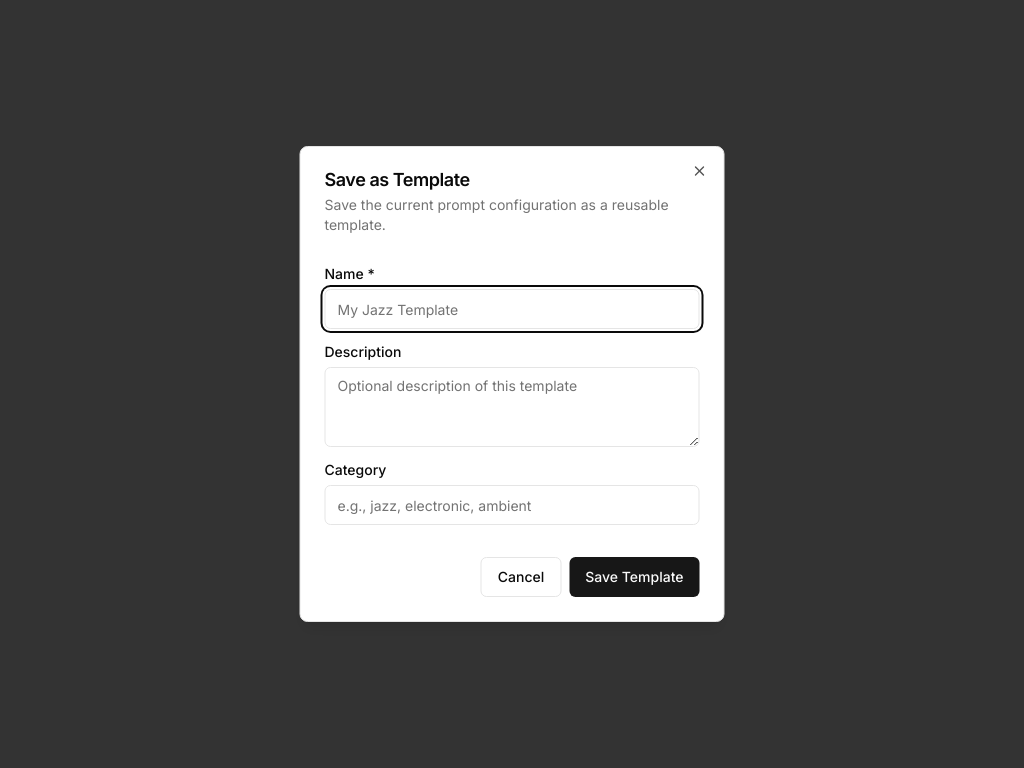
SaveTemplateDialog › shows error when prompt text is empty
In the field labelled "Name *": (512, 309) [324,289,700,329], type "My Template"
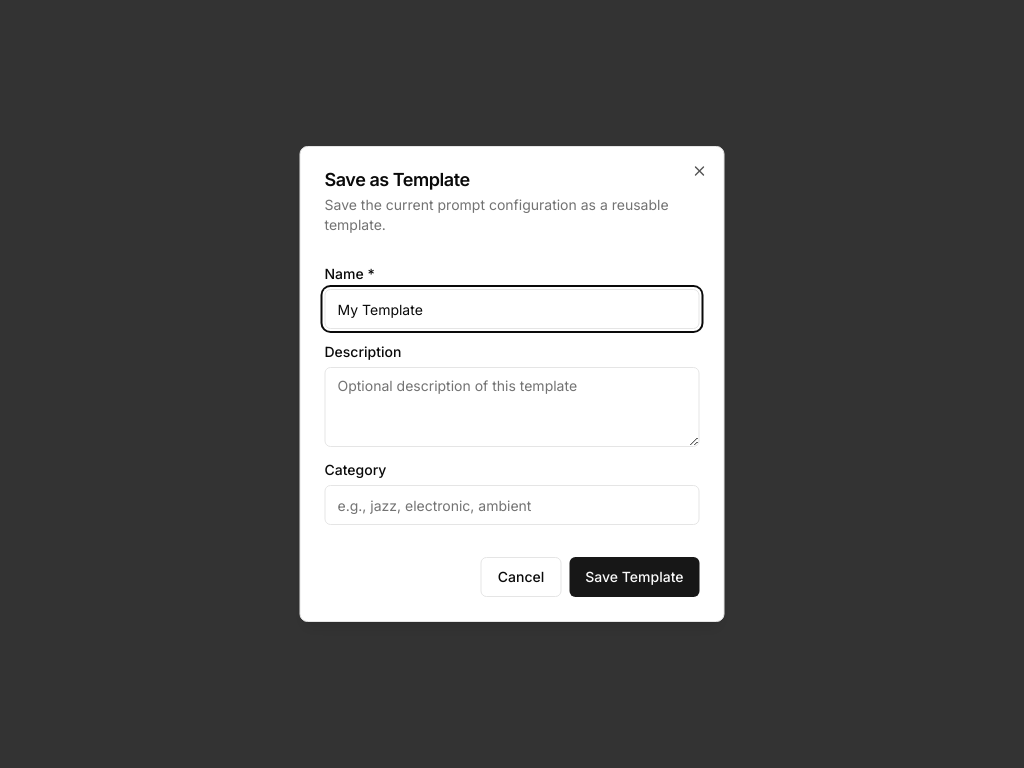
Click the button "Save Template": (634, 577) [569,557,700,597]
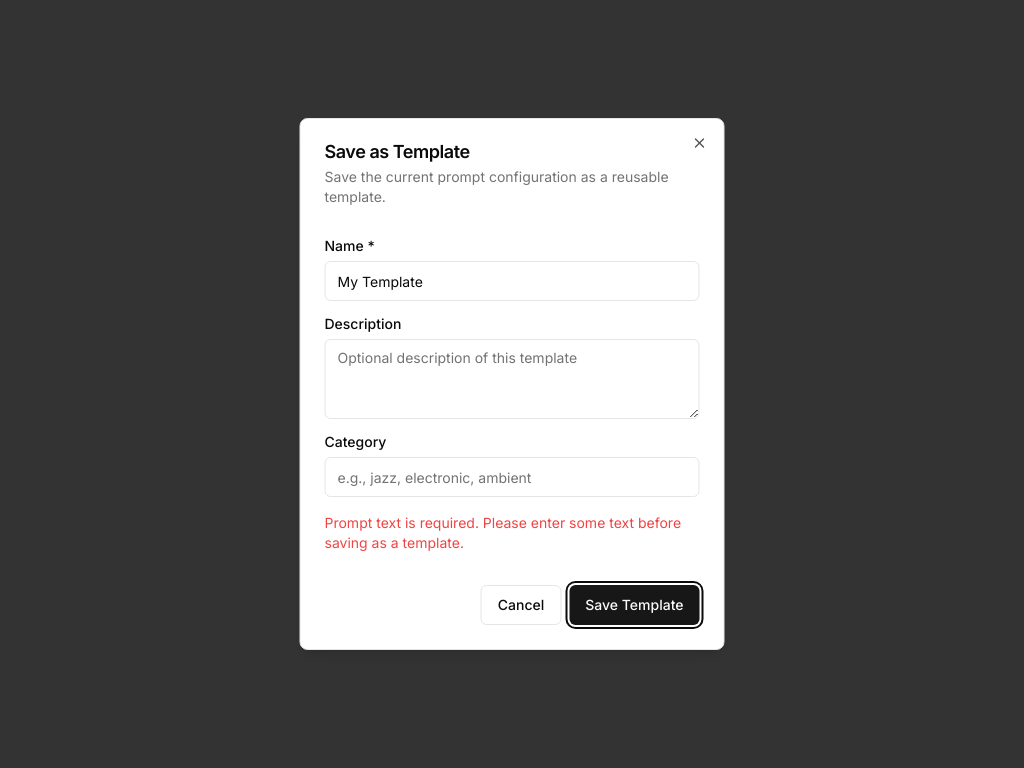
Expected: the text "Prompt text is required" is shown, [324,514,681,551]
